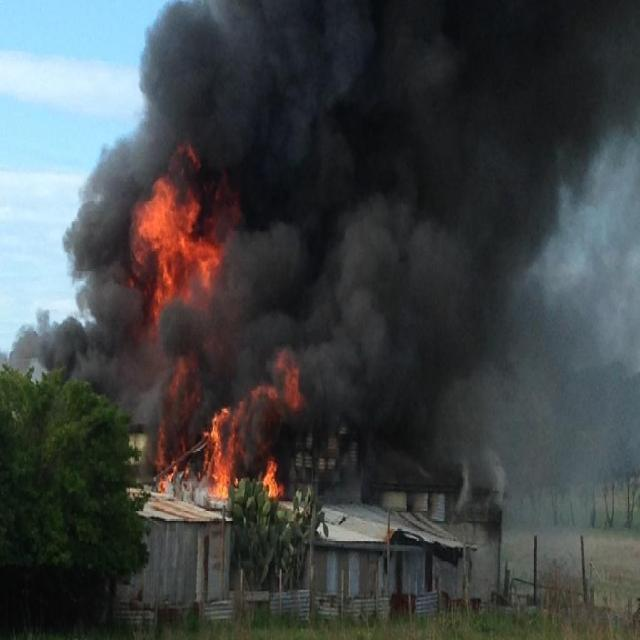Fire: (119, 138, 229, 334), (202, 369, 300, 497), (152, 414, 182, 490)
Smoke: (229, 0, 640, 353), (305, 358, 640, 492), (65, 142, 119, 389), (139, 0, 230, 137), (120, 334, 200, 414), (11, 306, 64, 375)
